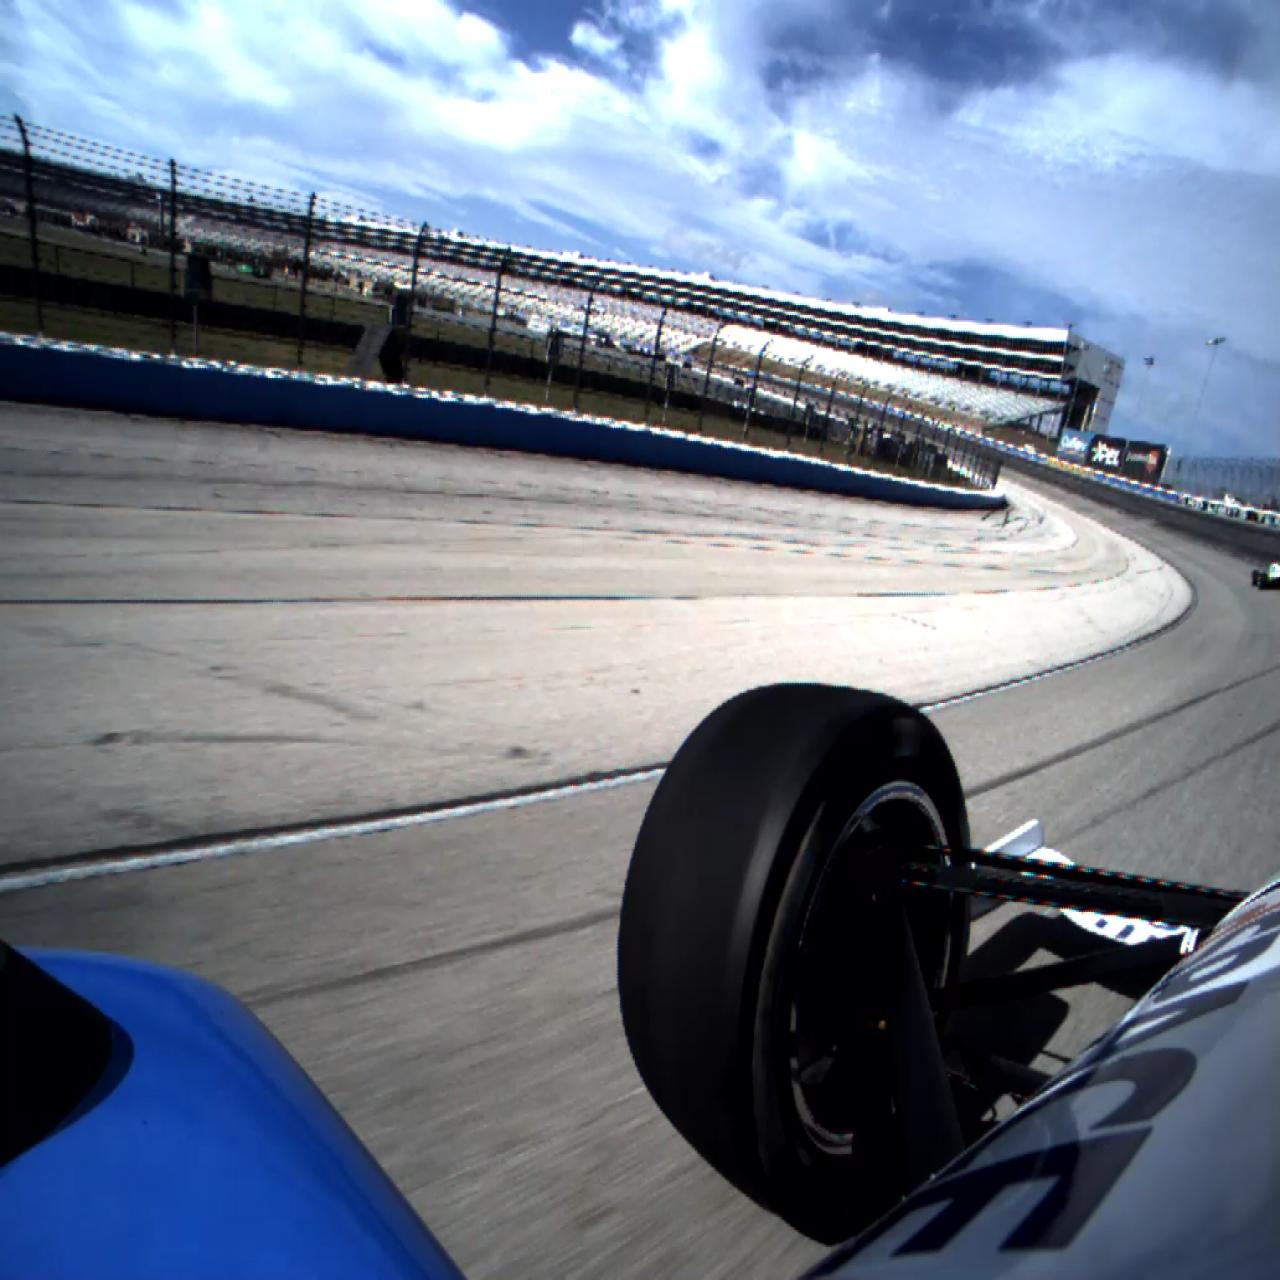AV: (1251, 554, 1280, 590)
Wheel: (618, 682, 972, 1207), (1258, 574, 1267, 590), (1252, 570, 1258, 586)
